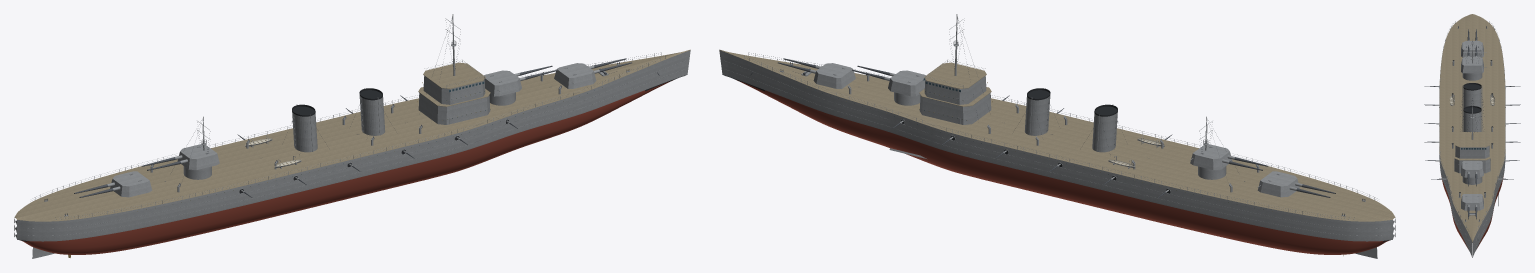
The model's file is mackensen_bc.glb.
The picture shows the model from 3 angles, left to right: view 1: azimuth 30°, elevation 25°; view 2: azimuth 150°, elevation 25°; view 3: azimuth 270°, elevation 25°; orthographic projection. The views are drawn at different scales.
Visible parts, largest first — view 1: Mackensen class (broken up incomplete); view 2: Mackensen class (broken up incomplete); view 3: Mackensen class (broken up incomplete).
Boxes of the visible parts, x1,y1,x2,y2 form: Mackensen class (broken up incomplete): (14, 14, 690, 258); Mackensen class (broken up incomplete): (719, 14, 1395, 258); Mackensen class (broken up incomplete): (1424, 14, 1520, 257).
Bounding box in the file's own units: 207 × 42.37 × 36.63.
8 materials, 2 textured.
